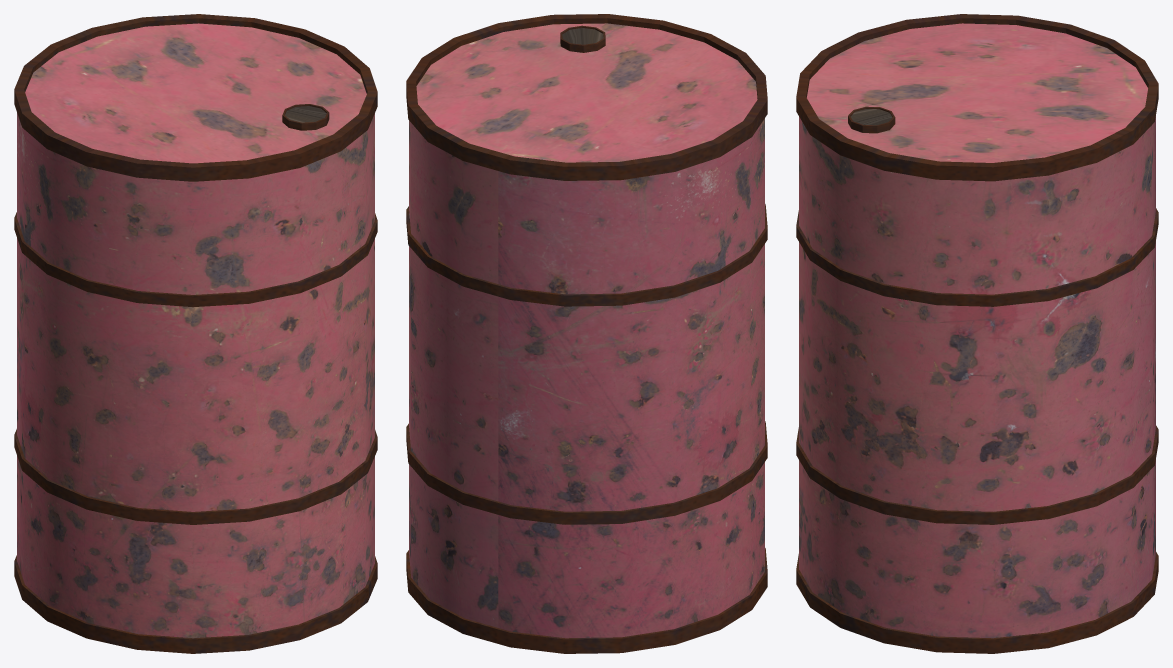
File: TunnaRöd.fbx
The picture shows the model from 3 angles, left to right: view 1: azimuth 30°, elevation 25°; view 2: azimuth 150°, elevation 25°; view 3: azimuth 270°, elevation 25°; orthographic projection.
Visible parts, largest first — view 1: pasted__Barrel3; view 2: pasted__Barrel3; view 3: pasted__Barrel3.
Part boxes in pixels (box(x1,y1,x2,y2)): pasted__Barrel3: box(14, 14, 377, 653); pasted__Barrel3: box(406, 14, 767, 653); pasted__Barrel3: box(796, 14, 1158, 653).
Size of the model in its own units: 4.55 by 6.77 by 4.55.
Materials: 3 (3 with a texture image).
